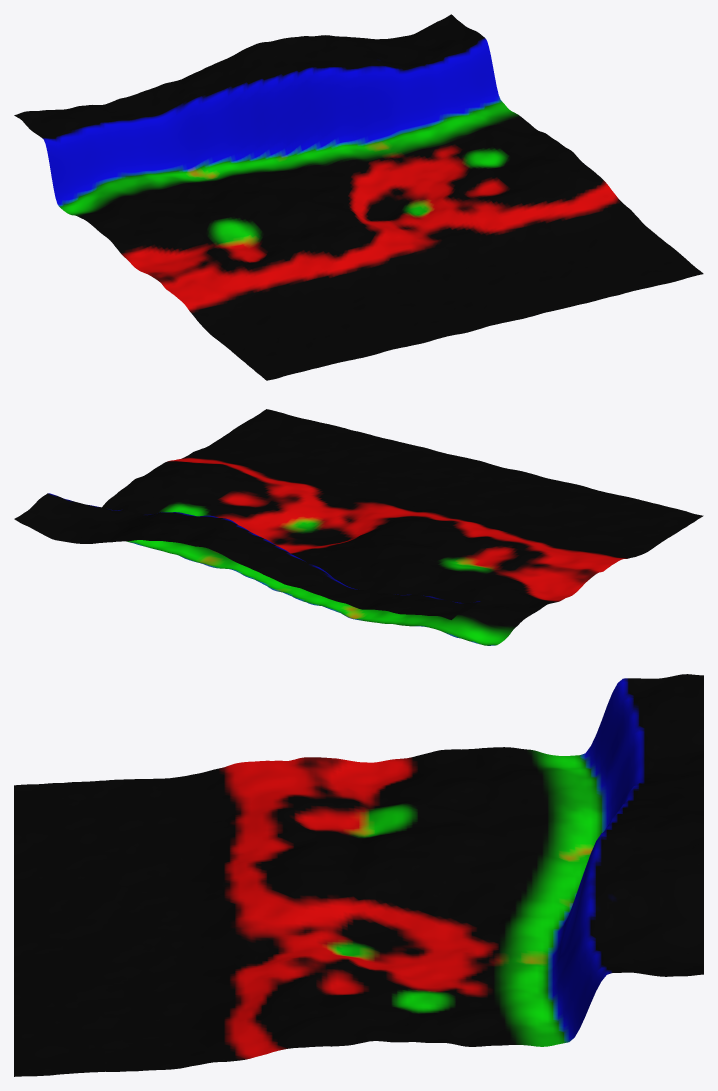
The model's file is showcaseCoast.glb.
3 views of the same model, one above another, from view 1: azimuth 30°, elevation 25°; view 2: azimuth 150°, elevation 25°; view 3: azimuth 270°, elevation 25° (orthographic). The views are drawn at different scales.
Visible parts, largest first — view 1: showcaseCoast; view 2: showcaseCoast; view 3: showcaseCoast.
Boxes of the visible parts, left/top/right/bottom form: showcaseCoast: left=14, top=14, right=703, bottom=380; showcaseCoast: left=14, top=409, right=703, bottom=645; showcaseCoast: left=14, top=674, right=703, bottom=1076.
Size of the model in its own units: 64 by 13.12 by 64.
